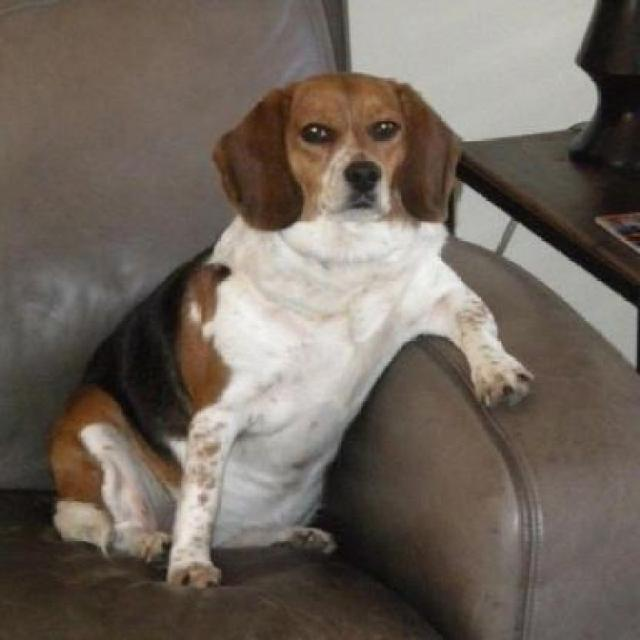Dog: (52, 66, 532, 591)
